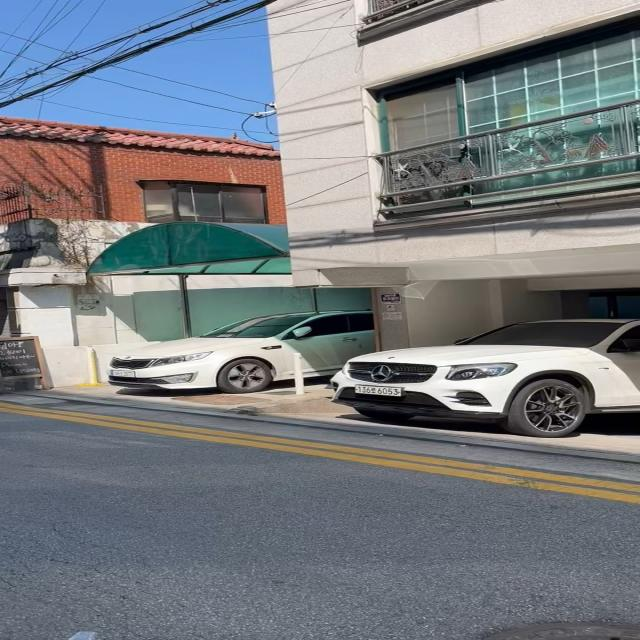building: (263, 0, 638, 359), (0, 114, 293, 387)
car: (327, 317, 639, 437), (106, 308, 376, 394)
